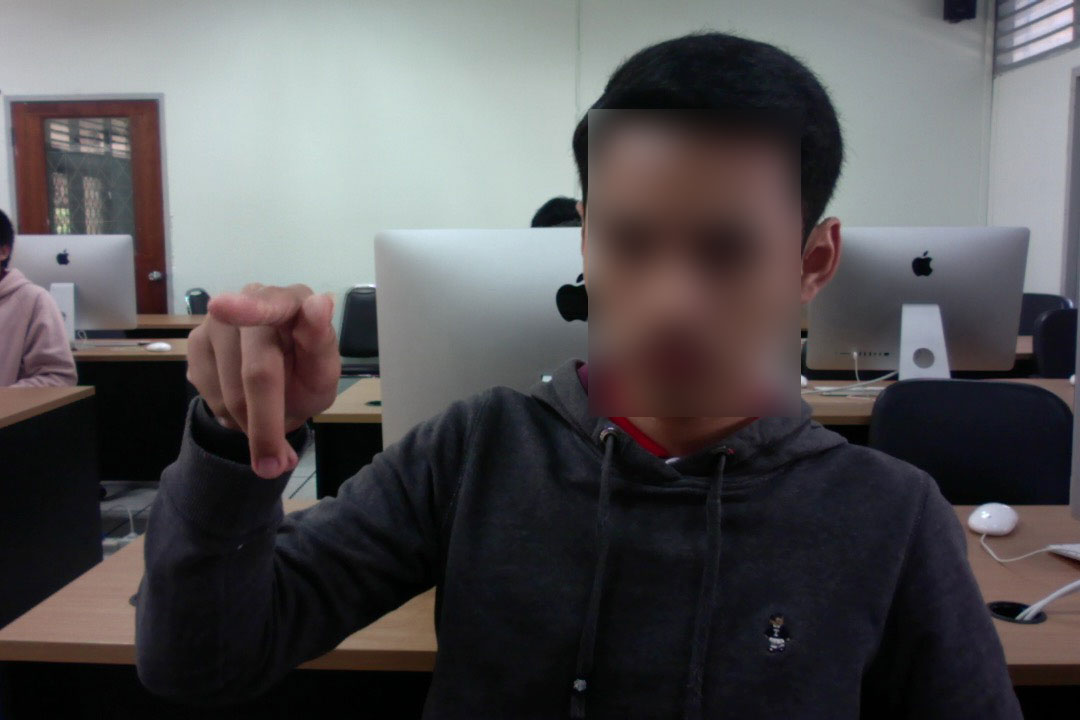por: (182, 268, 345, 482)
